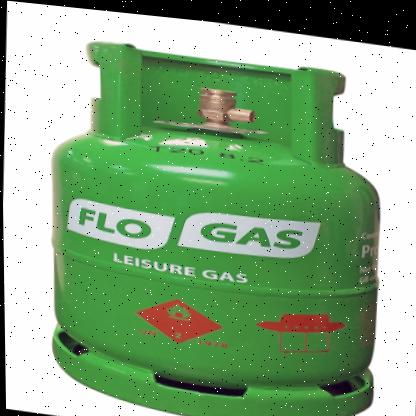gas-tank: (14, 9, 414, 415)
